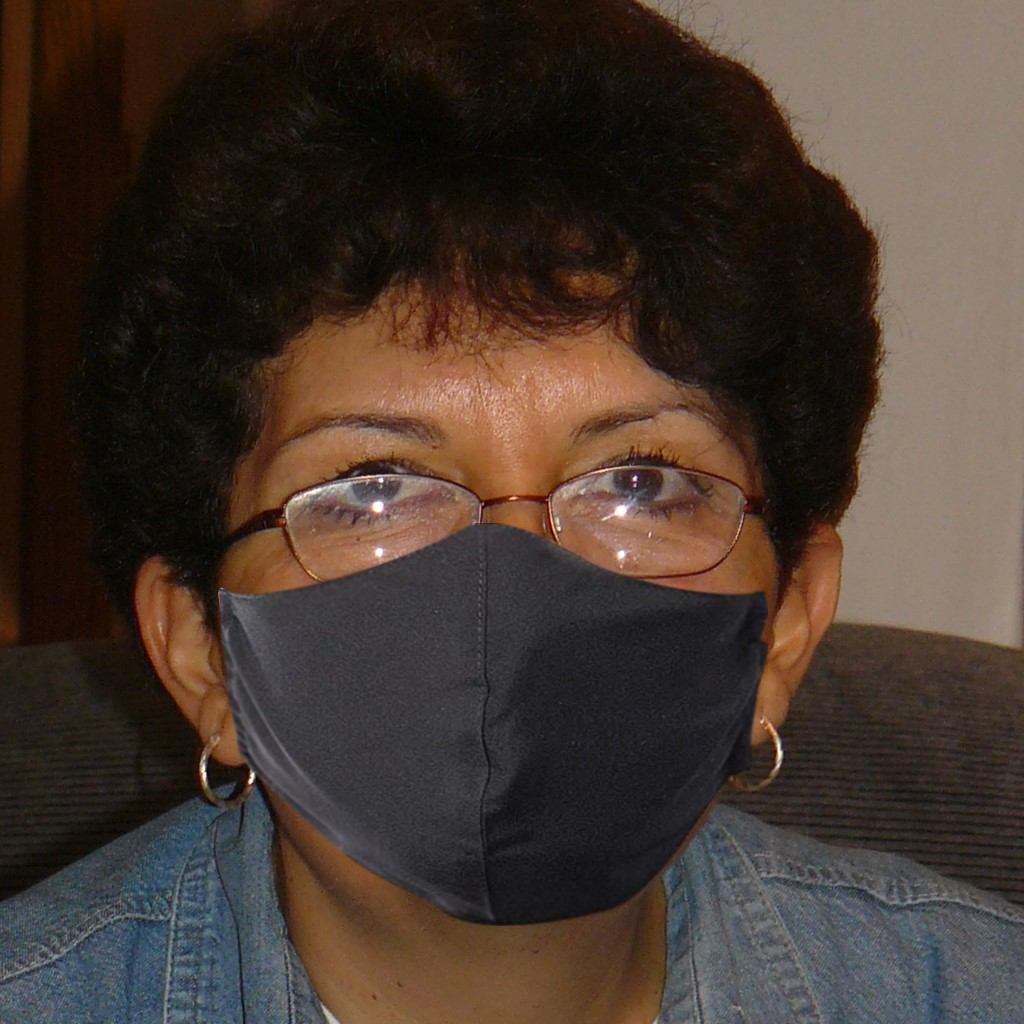con_mascara: (164, 228, 785, 932)
